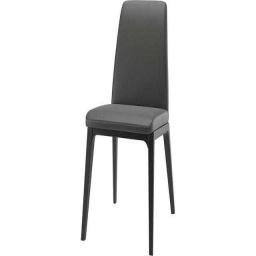Chair: (85, 0, 177, 256)
